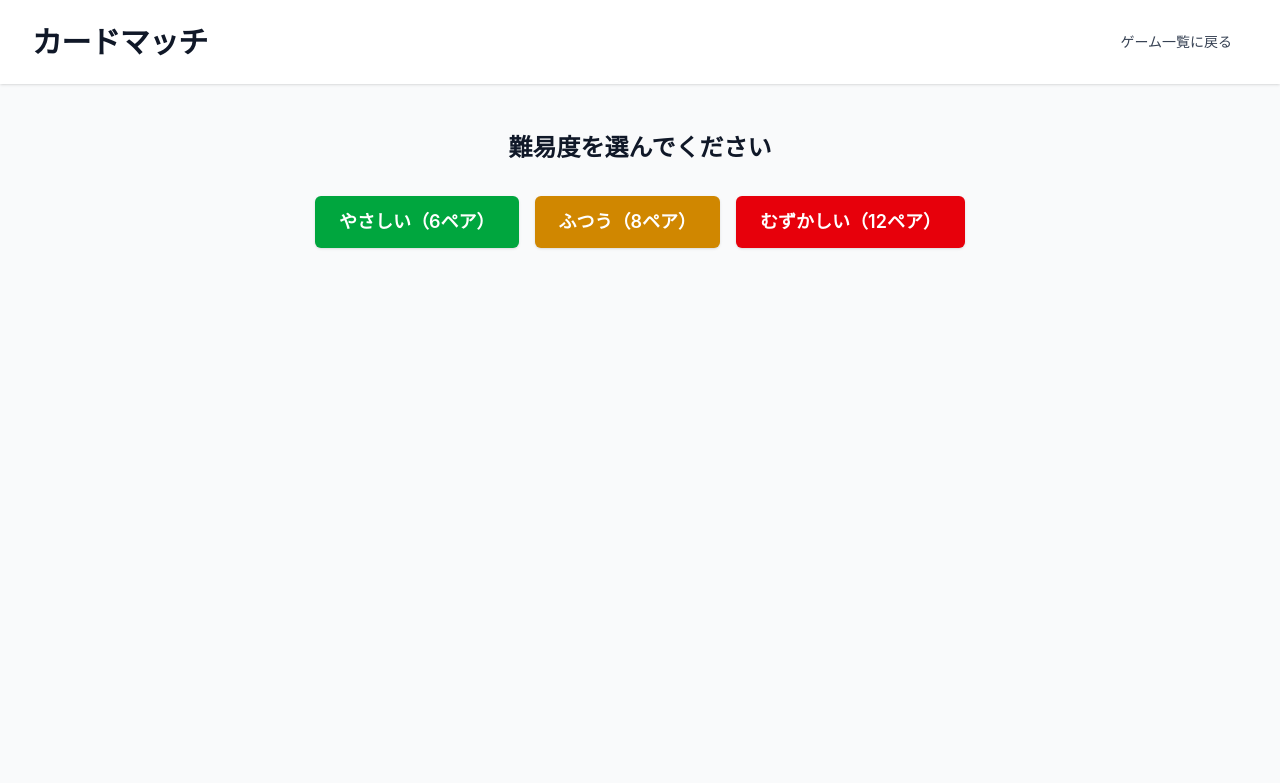
Test: CardMatchGame › should render game board when difficulty is selected
The width and height of the screenshot is (1280, 783).
Click the button "やさしい（6ペア）". click: (417, 222)
box: [315, 196, 519, 248]
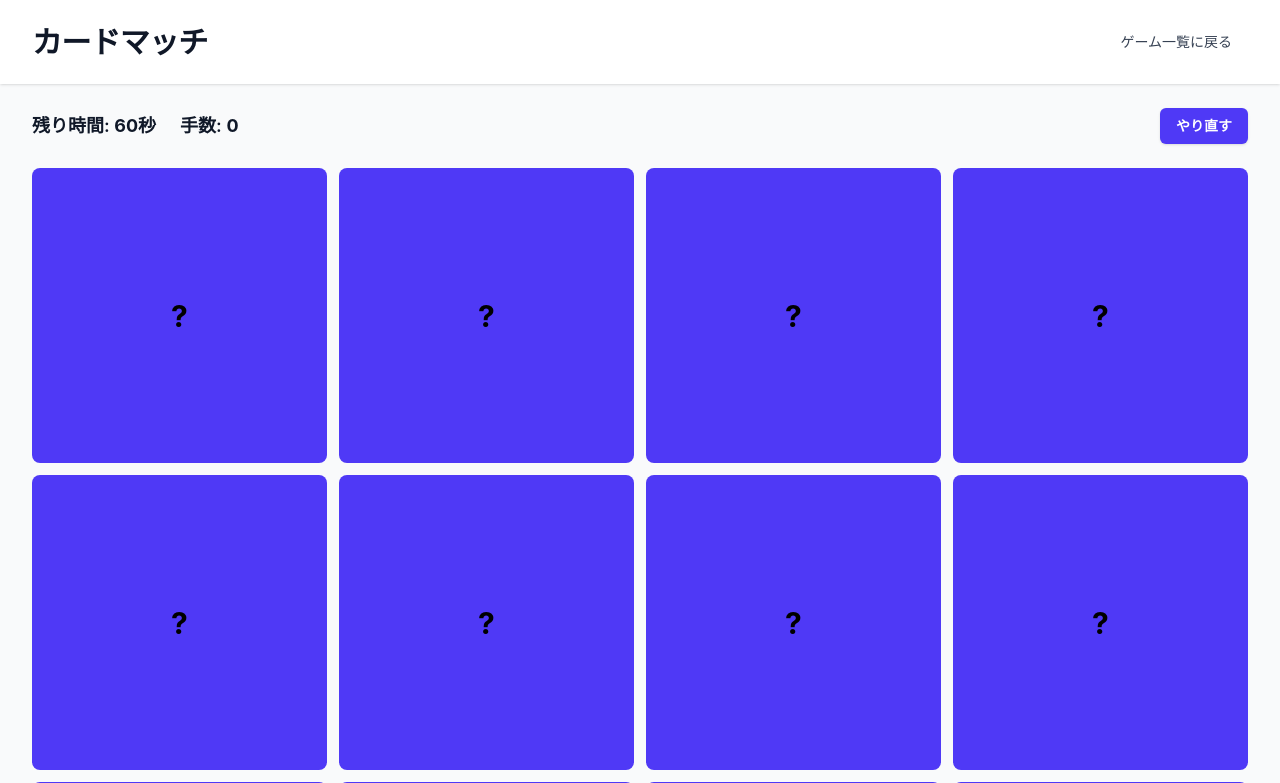
Result: the text "残り時間:" is shown at [32, 115, 114, 136]
Result: the text "手数:" is shown at [180, 115, 226, 136]
Result: the button "やり直す" is shown at [1160, 108, 1248, 144]
